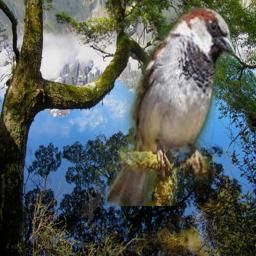Sparrow: (106, 6, 236, 206)
